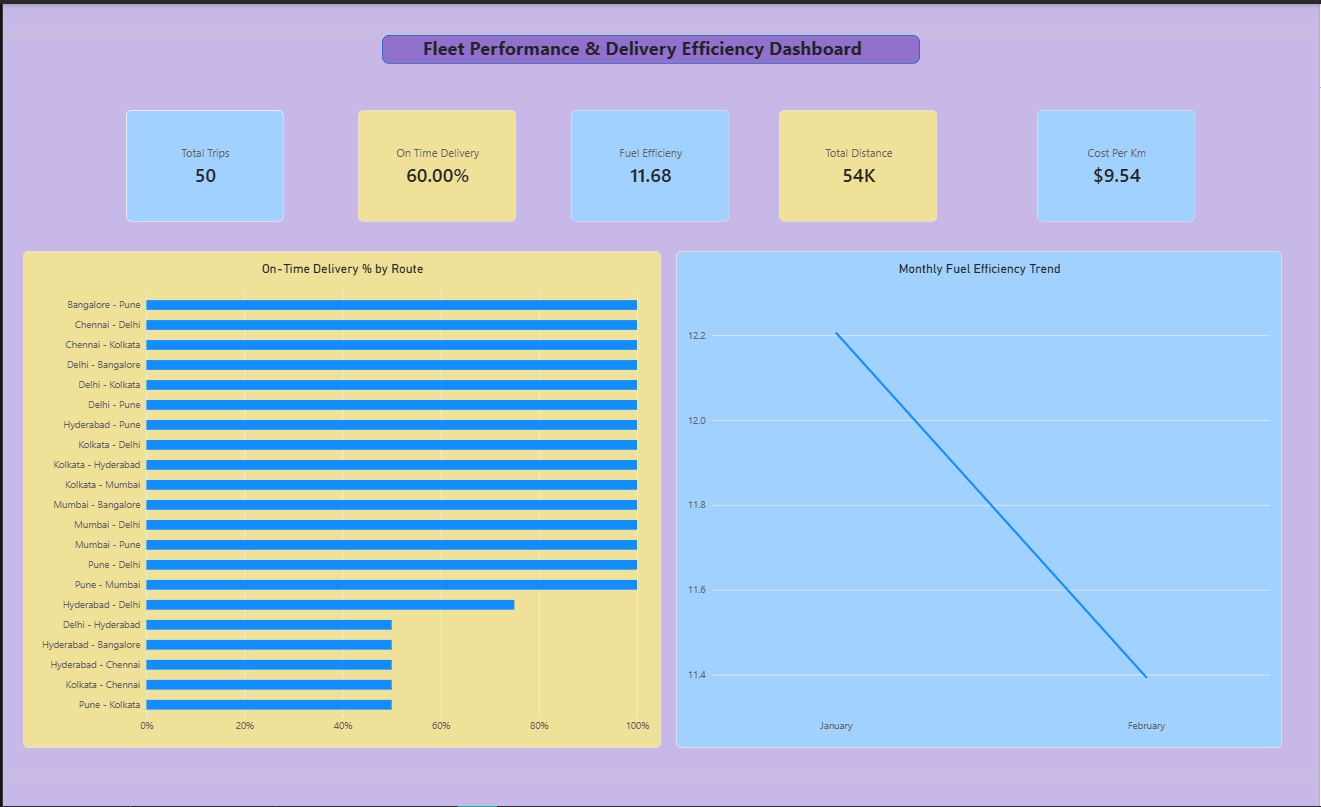

Layout of this report page (visuals, bound fields, positions):
{"tool":"powerbi","page":{"name":"Page 1","canvas":[1920,1080],"ordinal":0},"visuals":[{"type":"cardVisual","fields":{"Data":["Trip_Data.Total Trips"]},"box":[179.5,109.4,230.5,163.4],"z":0},{"type":"cardVisual","fields":{"Data":["Trip_Data.On Time Delivery"]},"box":[517.9,109.4,232,163.4],"z":1000},{"type":"cardVisual","fields":{"Data":["Trip_Data.fuel efficieny"]},"box":[828.7,109.4,232,163.4],"z":2000},{"type":"cardVisual","fields":{"Data":["Trip_Data.Total Distance"]},"box":[1132.2,109.4,232,163.4],"z":3000},{"type":"cardVisual","fields":{"Data":["Trip_Data.Cost Per Km"]},"box":[1508.6,109.4,232,163.4],"z":4000},{"type":"clusteredBarChart","title":"On-Time Delivery % by Route","fields":{"Category":["Trip_Data.Route"],"Y":["Trip_Data.On Time Delivery"]},"box":[29.2,315.1,930.8,725.1],"z":5000},{"type":"lineChart","title":"Monthly Fuel Efficiency Trend","fields":{"Category":["Trip_Data.Delivery_Date.Variation.Date Hierarchy.Month"],"Y":["Trip_Data.Fuel Efficieny"]},"box":[981.9,315.1,884.1,725.1],"z":6000},{"type":"shape","box":[552.9,0,784.9,42.3],"z":7000},{"type":"textbox","box":[612.8,0,663.8,52.5],"z":8000}]}

Visuals, with their boxes on the page's 1920x1080 design canvas (x1, y1, x2, y2). These are canvas units, not pixel positions in the 1321x807 screenshot, which may show the page scaled, cropped or inside an application window:
cardVisual - Trip_Data.Total Trips: (x1=180, y1=109, x2=410, y2=273)
cardVisual - Trip_Data.On Time Delivery: (x1=518, y1=109, x2=750, y2=273)
cardVisual - Trip_Data.fuel efficieny: (x1=829, y1=109, x2=1061, y2=273)
cardVisual - Trip_Data.Total Distance: (x1=1132, y1=109, x2=1364, y2=273)
cardVisual - Trip_Data.Cost Per Km: (x1=1509, y1=109, x2=1741, y2=273)
"On-Time Delivery % by Route" clusteredBarChart: (x1=29, y1=315, x2=960, y2=1040)
"Monthly Fuel Efficiency Trend" lineChart: (x1=982, y1=315, x2=1866, y2=1040)
shape: (x1=553, y1=0, x2=1338, y2=42)
textbox: (x1=613, y1=0, x2=1277, y2=52)
